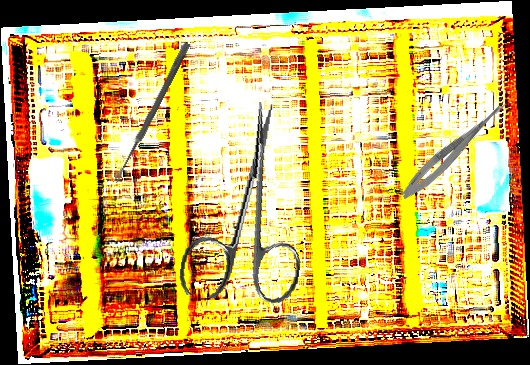Iris Scissors: (177, 94, 322, 310)
Micro Scissor: (396, 93, 512, 205)
Surgical Spoon: (112, 41, 191, 185)
